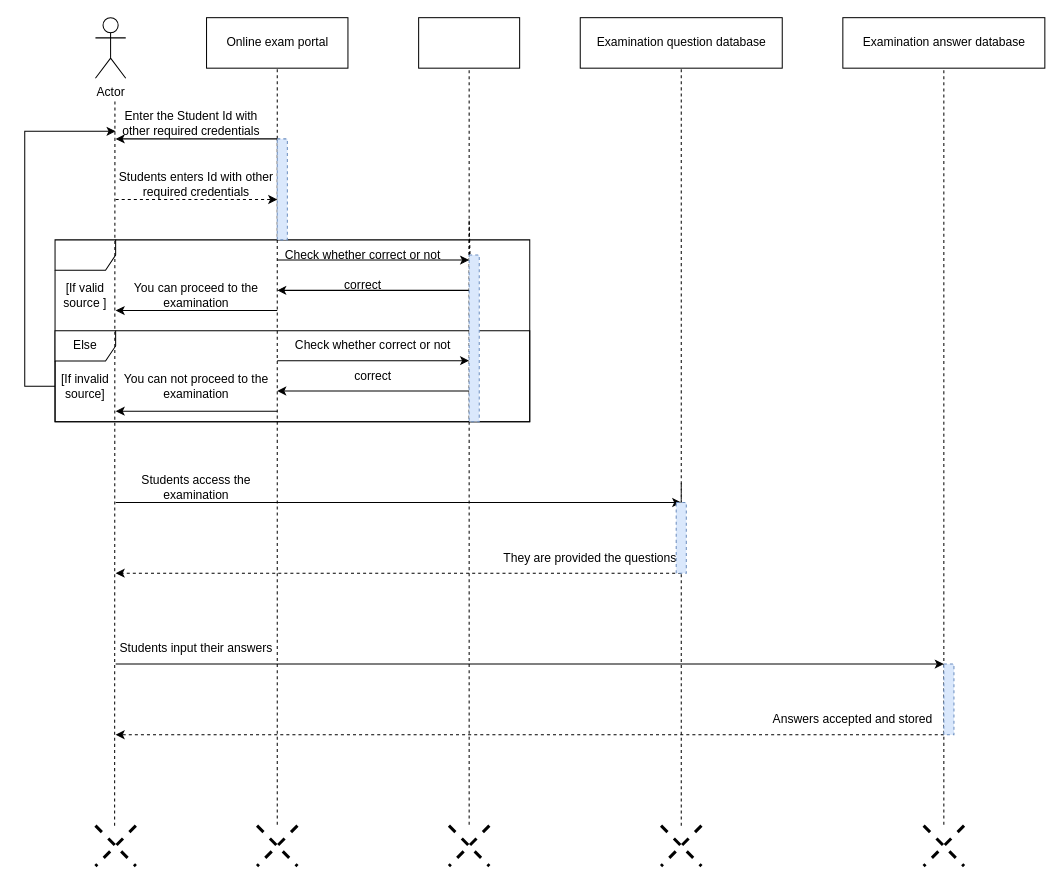
The diagram is 1063 pixels wide and 885 high, and some of its shapes have lost their labels. The box of each missing label's shape, as (x1, y1, x2, y2) in pixels:
Alt: (54, 239, 530, 422)
Sudents records: (418, 17, 520, 68)
